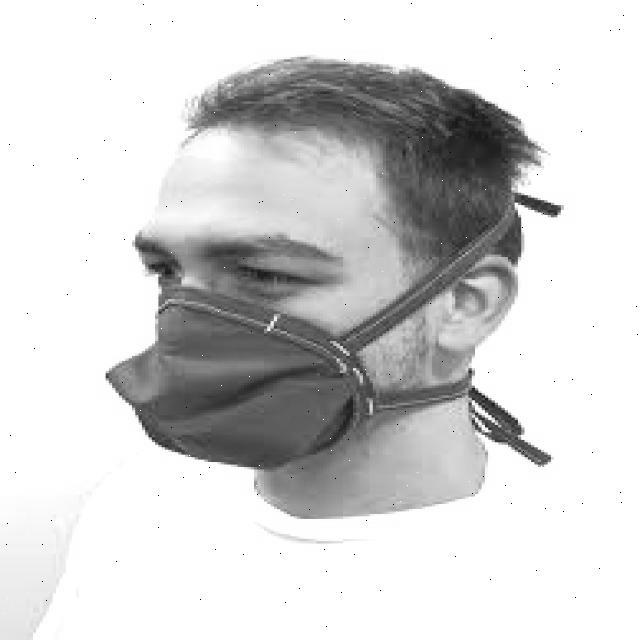fake: (102, 281, 389, 476)
real: (132, 137, 429, 485)
